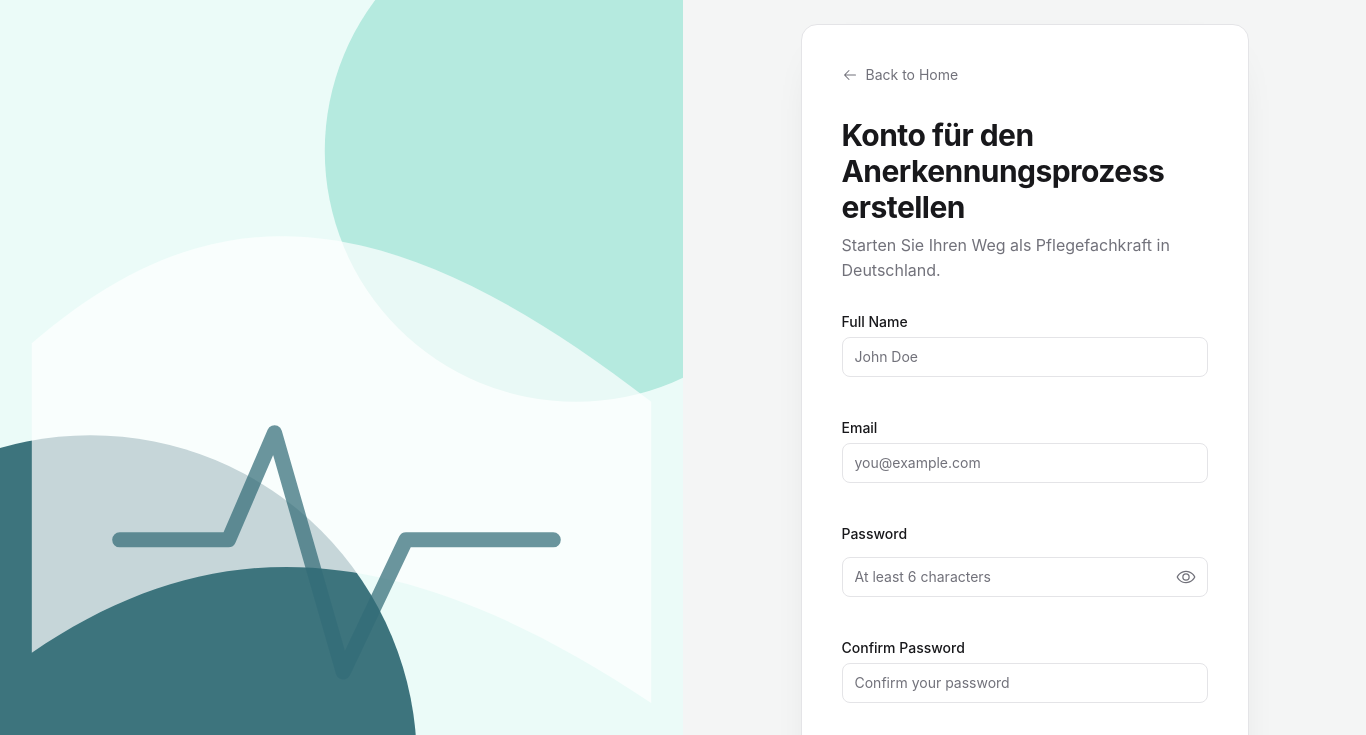
register reports API errors and supports default landing route
In the field with test id "register-name-input": [1024, 357] box x1=842 y1=337 x2=1208 y2=377, type "Ada"
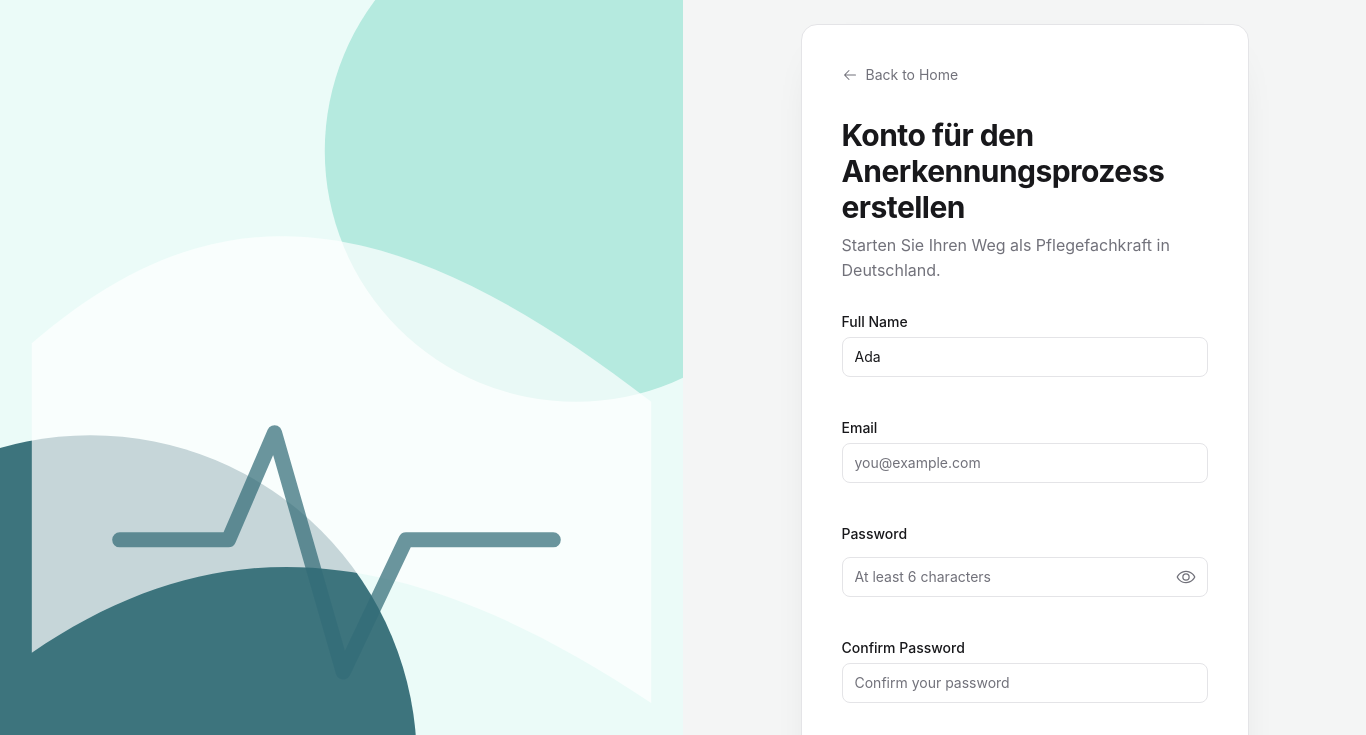
In the field with test id "register-email-input": [1024, 463] box x1=842 y1=443 x2=1208 y2=483, type "ada@example.com"
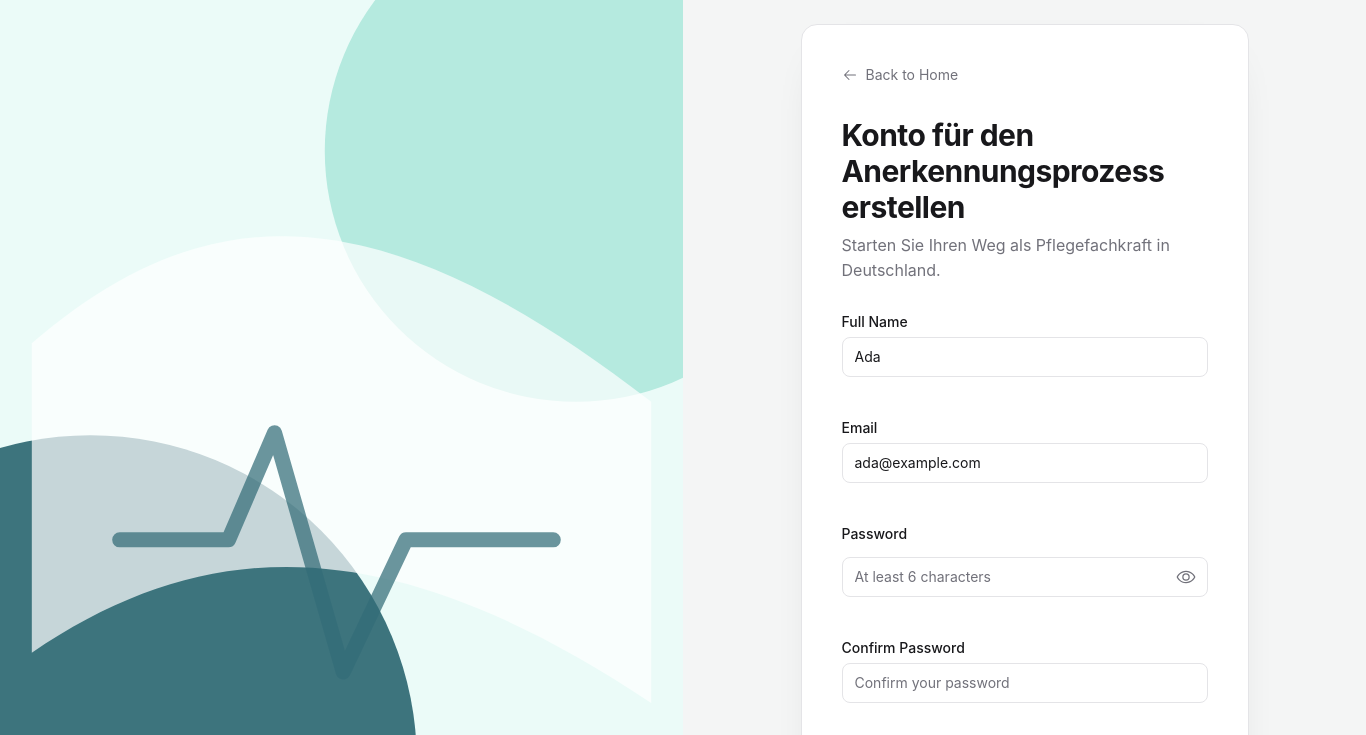
In the password field with test id "register-password-input": [1024, 577] box x1=842 y1=557 x2=1208 y2=597, type "secret"
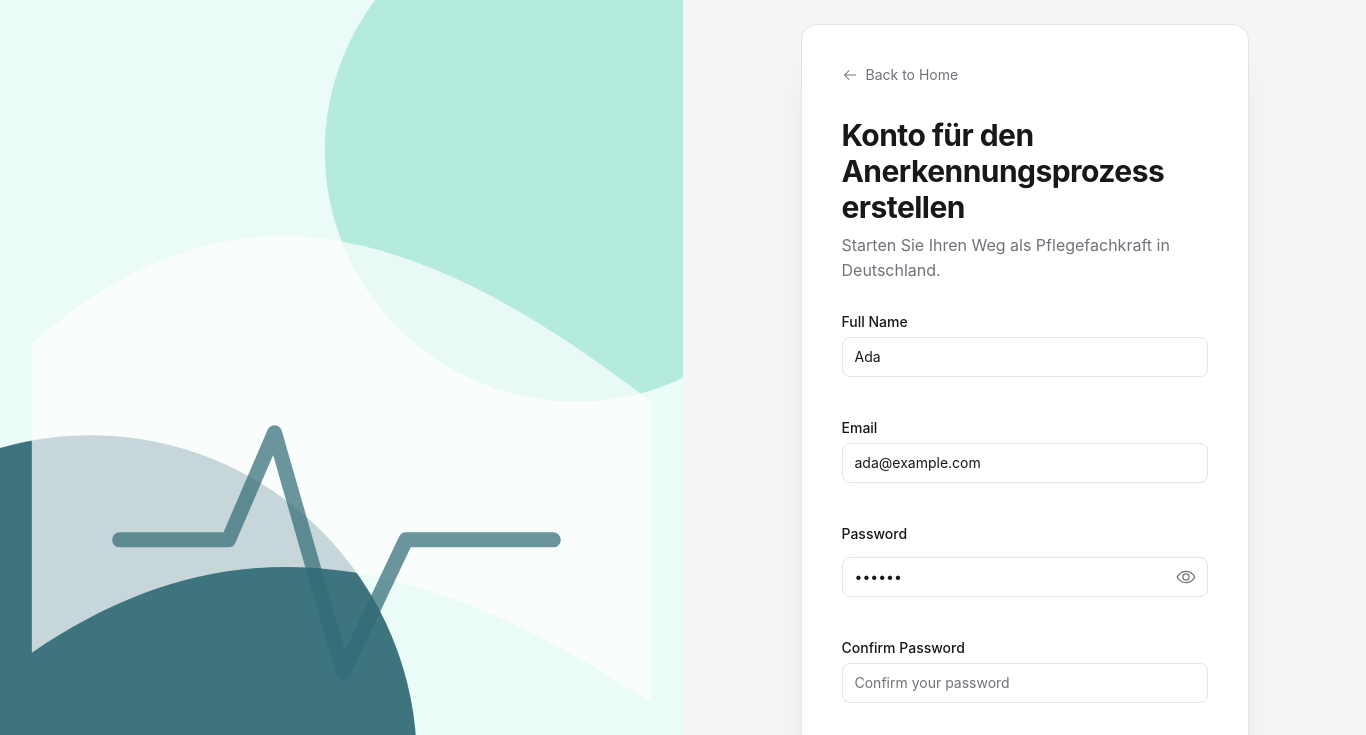
In the password field with test id "register-confirm-password-input": [1024, 683] box x1=842 y1=663 x2=1208 y2=703, type "secret"
(page scrolled)
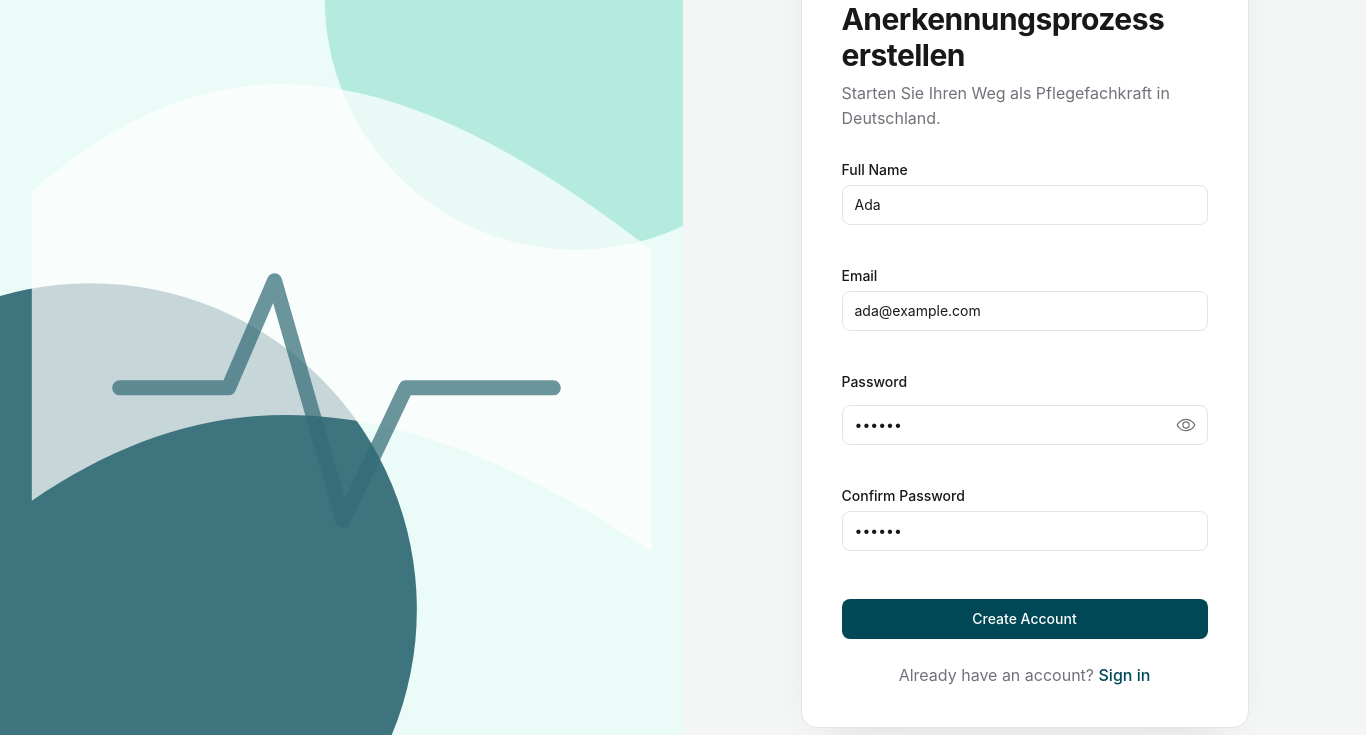
Submit the form with test id "register-submit-btn", box x1=842 y1=163 x2=1208 y2=639
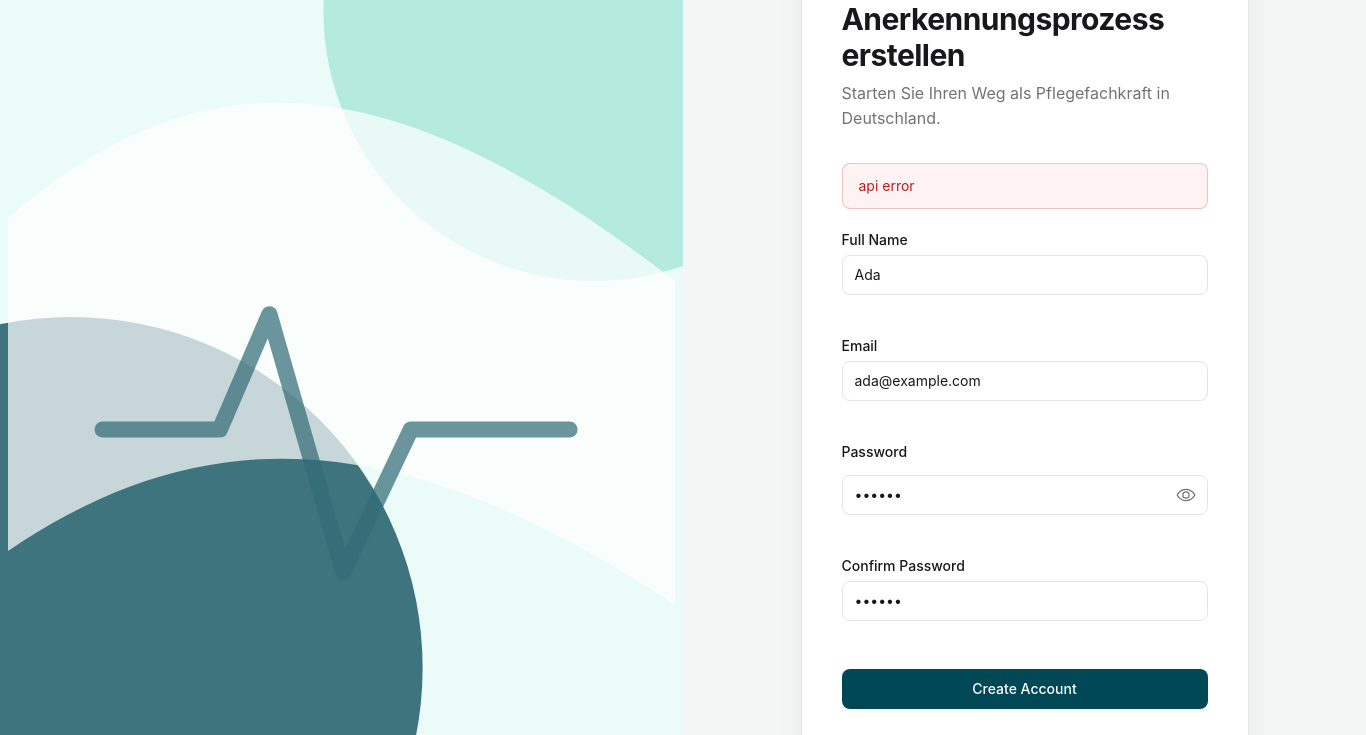
Expected: the button with test id "register-submit-btn" is enabled, x1=842 y1=669 x2=1208 y2=709
Expected: the text with test id "register-error" reads "api error", x1=858 y1=177 x2=915 y2=194
